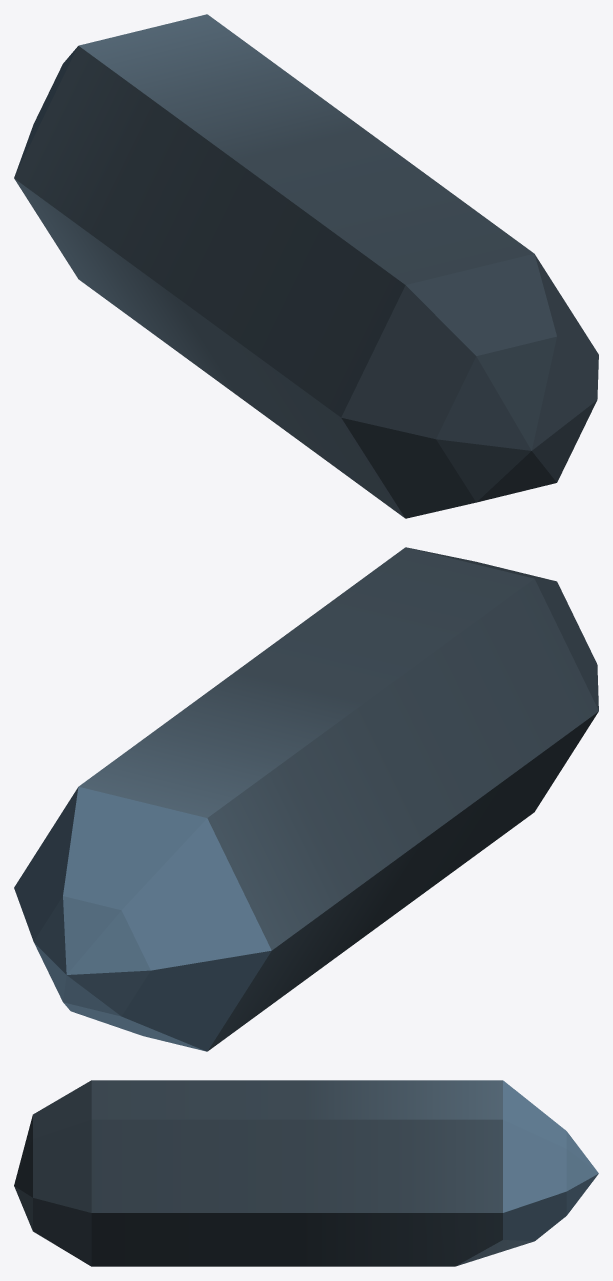
The model's file is CalciteCrystal.005.glb.
3 views of the same model, one above another, from view 1: azimuth 30°, elevation 25°; view 2: azimuth 150°, elevation 25°; view 3: azimuth 270°, elevation 25° (orthographic). The views are drawn at different scales.
Visible parts, largest first — view 1: CalciteCrystal.005; view 2: CalciteCrystal.005; view 3: CalciteCrystal.005.
Boxes of the visible parts, x1,y1,x2,y2 form: CalciteCrystal.005: [14, 14, 598, 518]; CalciteCrystal.005: [14, 547, 598, 1051]; CalciteCrystal.005: [14, 1080, 598, 1266].
Bounding box in the file's own units: 221 × 192 × 692.
